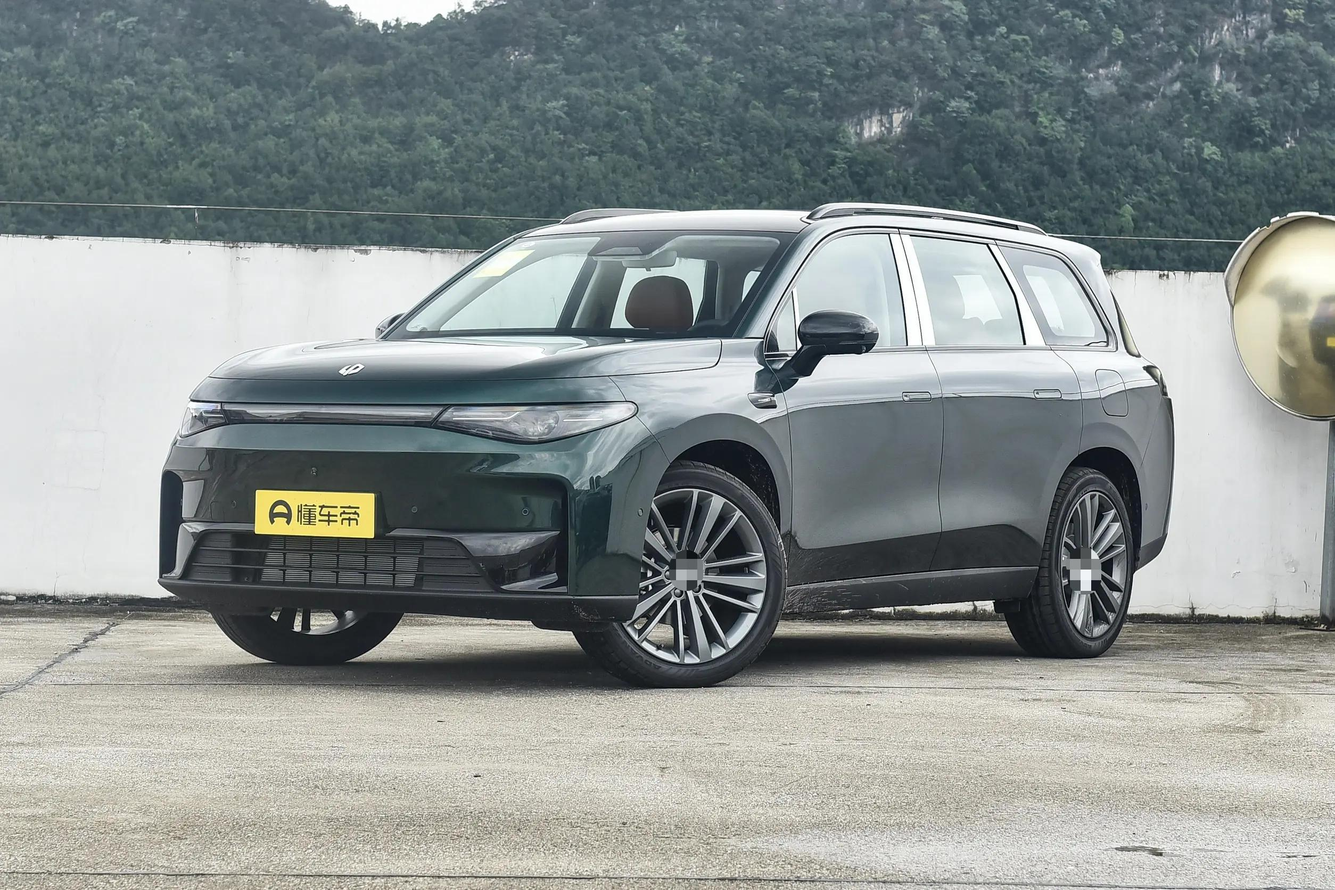LEAPMOTOR: (339, 362, 365, 376)
